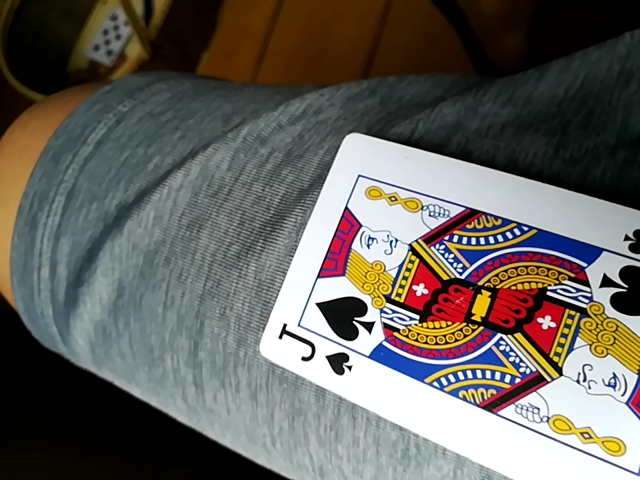ht j: (261, 127, 637, 480)
